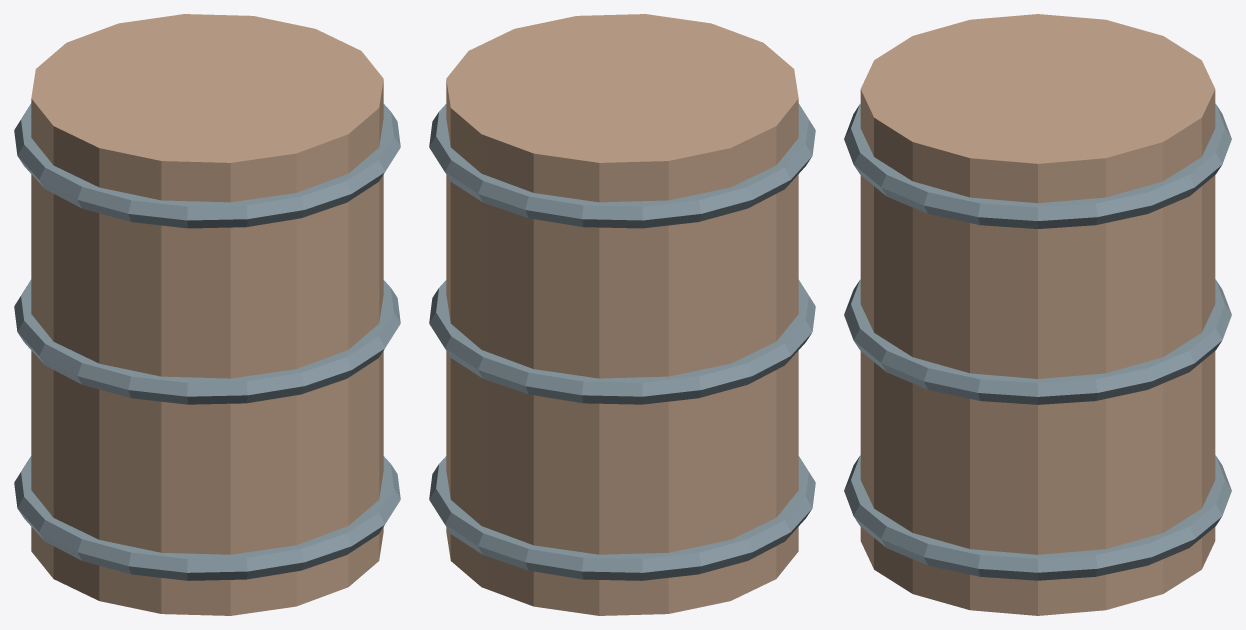
The model's file is barrel.glb.
3 views of the same model, side by side, from view 1: azimuth 30°, elevation 25°; view 2: azimuth 150°, elevation 25°; view 3: azimuth 270°, elevation 25° (orthographic).
Visible parts, largest first — view 1: barrel_000, barrel_003, barrel_002, barrel_001; view 2: barrel_000, barrel_003, barrel_002, barrel_001; view 3: barrel_000, barrel_001, barrel_002, barrel_003.
Boxes of the visible parts, box(x1,y1,x2,y2) form: barrel_000: box(31, 14, 383, 615); barrel_003: box(14, 103, 400, 228); barrel_002: box(14, 280, 400, 404); barrel_001: box(14, 456, 400, 580); barrel_000: box(446, 14, 798, 615); barrel_003: box(429, 103, 815, 228); barrel_002: box(429, 280, 815, 404); barrel_001: box(429, 456, 815, 580); barrel_000: box(860, 14, 1215, 615); barrel_001: box(844, 455, 1231, 580); barrel_002: box(844, 279, 1231, 404); barrel_003: box(844, 103, 1231, 228).
Size of the model in its own units: 0.7 by 0.9 by 0.7.
